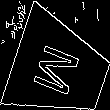M_E: (31, 39, 88, 100)
